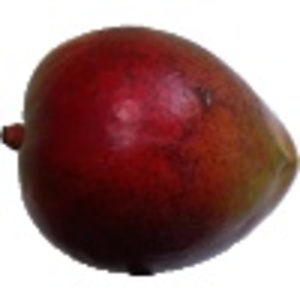manga: (1, 25, 300, 276)
